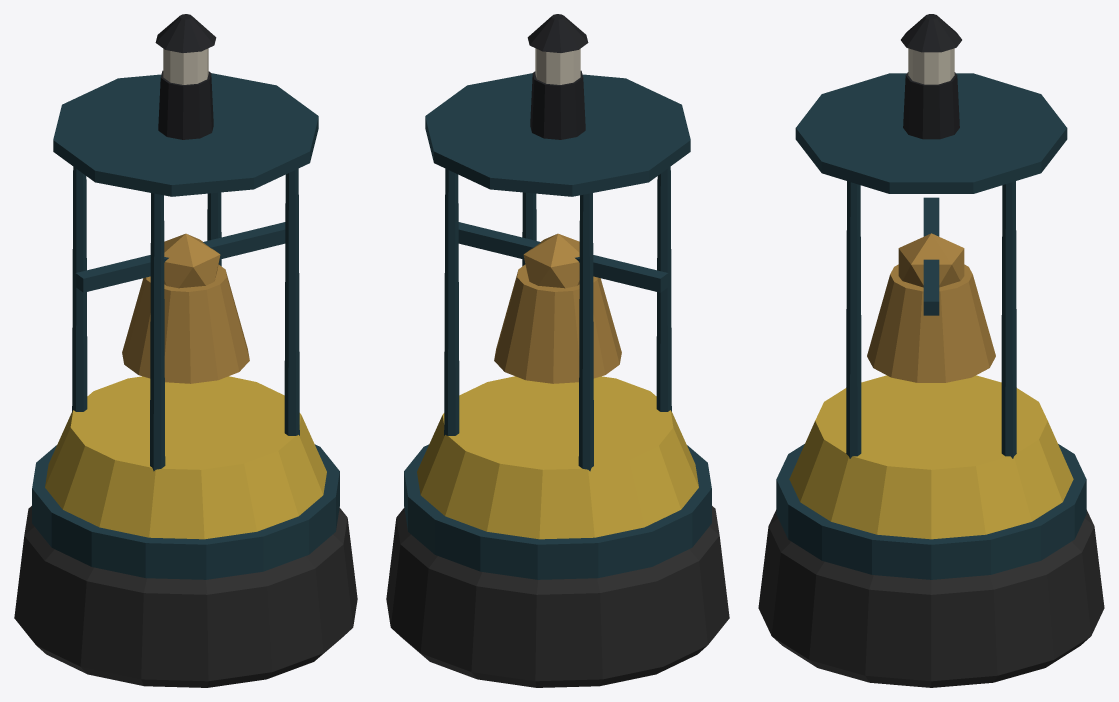
Rendered from buoy_bell.fbx.
3 views of the same model, side by side, from view 1: azimuth 30°, elevation 25°; view 2: azimuth 150°, elevation 25°; view 3: azimuth 270°, elevation 25° (orthographic).
Visible parts, largest first — view 1: Body.002; view 2: Body.002; view 3: Body.002.
Boxes of the visible parts, x1=… form: Body.002: x1=14, y1=14, x2=357, y2=687; Body.002: x1=386, y1=14, x2=729, y2=687; Body.002: x1=758, y1=14, x2=1104, y2=687.
Bounding box in the file's own units: 2.68 × 5.15 × 2.68.
